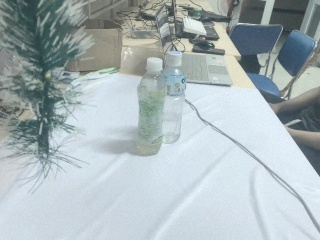bottle: (136, 55, 169, 156), (156, 52, 188, 148)
